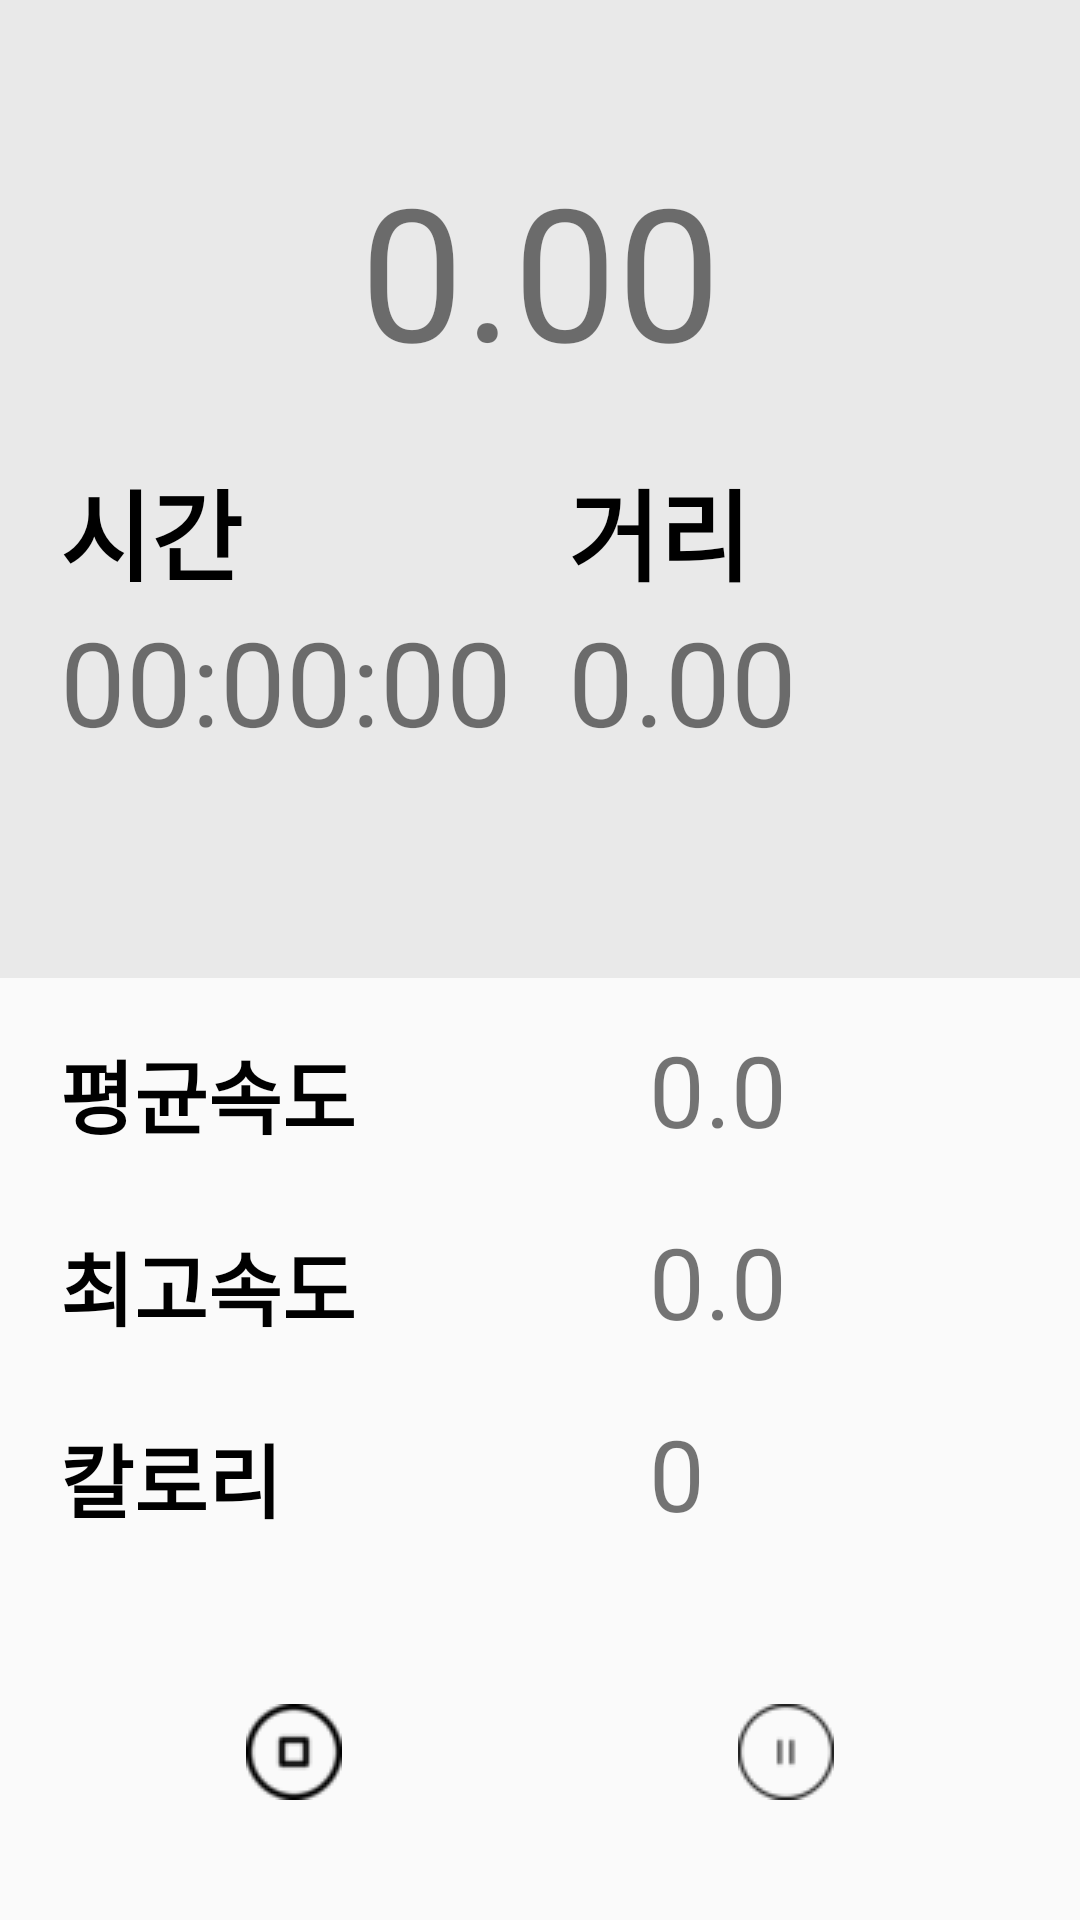

Icon bounding boxes for this 1080w x 1920h phone screenshot, format Rect(x1, y1, x2, y2):
pause: Rect(738, 1704, 834, 1800)
stop: Rect(246, 1704, 342, 1800)
